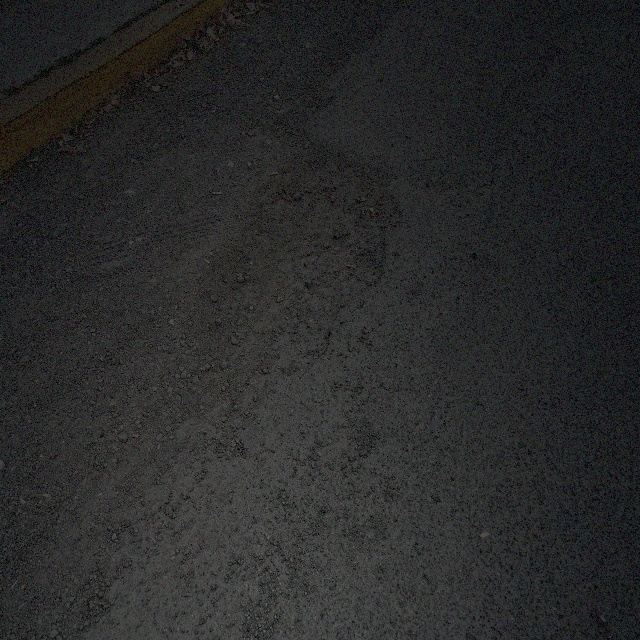pothole: (196, 134, 397, 432)
